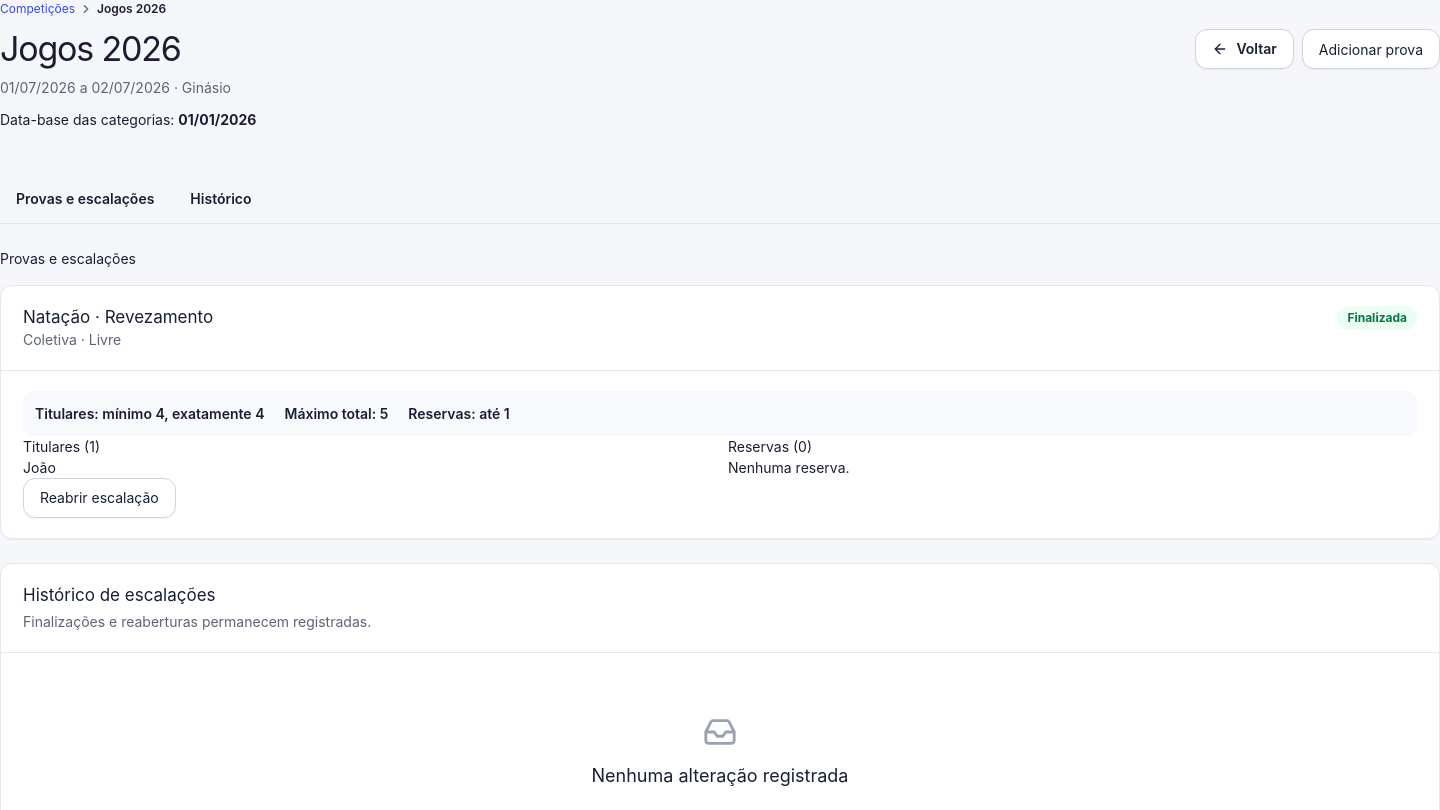
Test: Competições › exige motivo para confirmar uma reabertura
The image size is (1440, 810).
Click the button "Reabrir escalação".
click(99, 498)  # box [23,478,176,518]
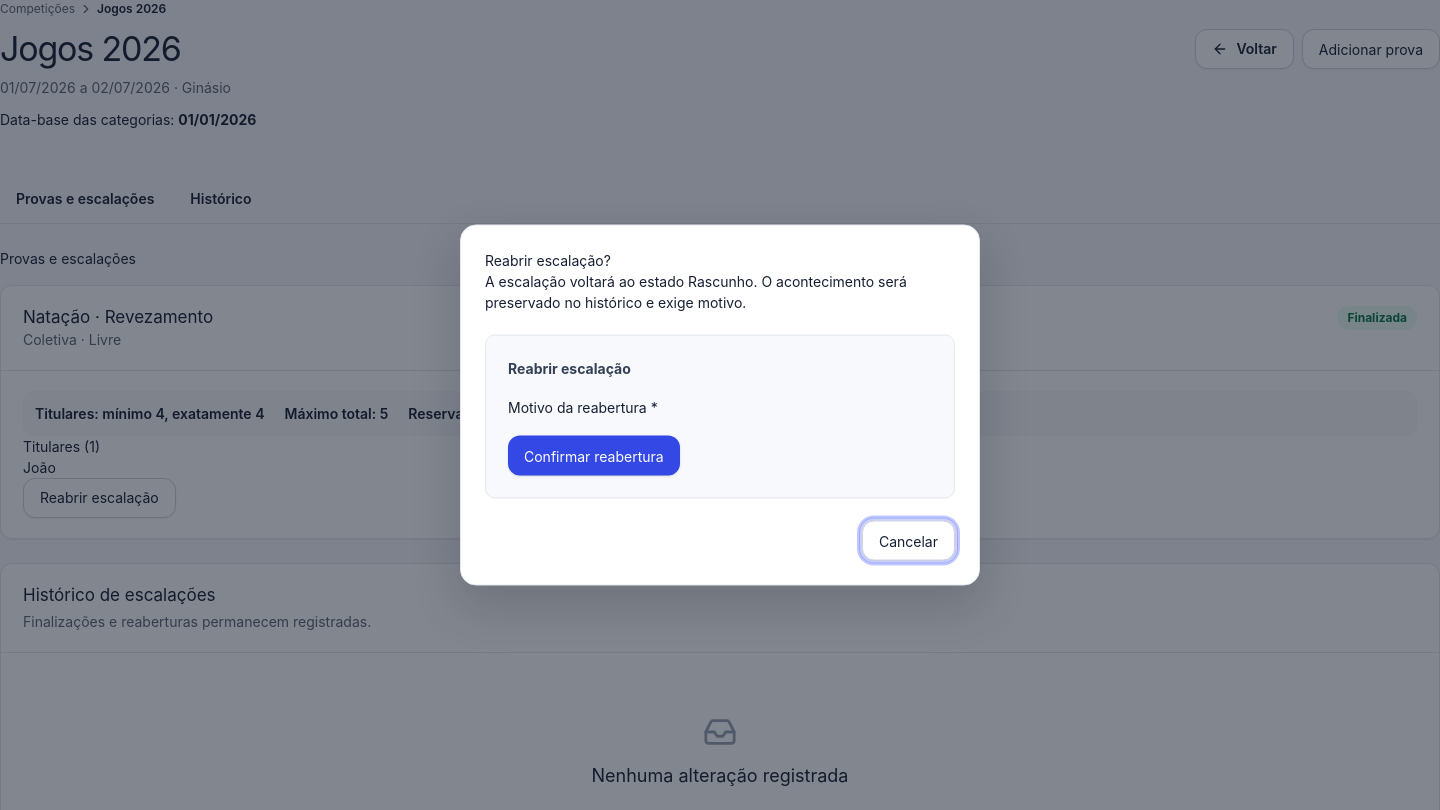
expect the form "Reabrir escalação" is shown: met, box [485,334,955,498]
